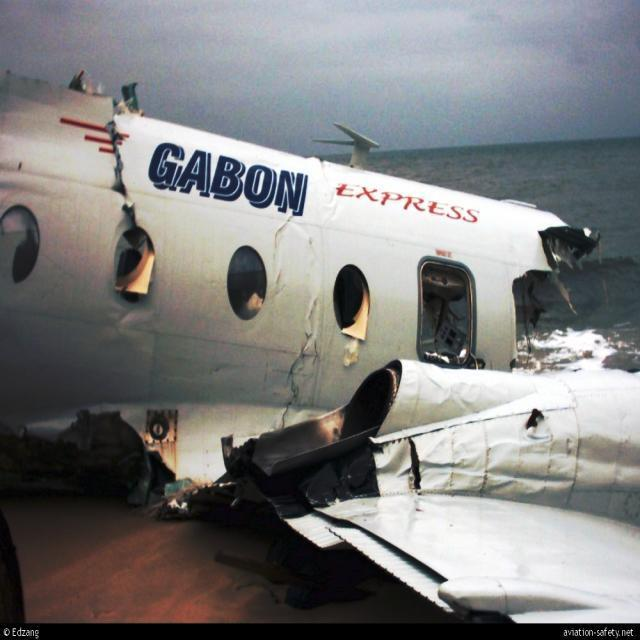crack: (276, 319, 321, 431), (103, 104, 133, 229), (270, 207, 301, 276), (407, 435, 425, 493)
